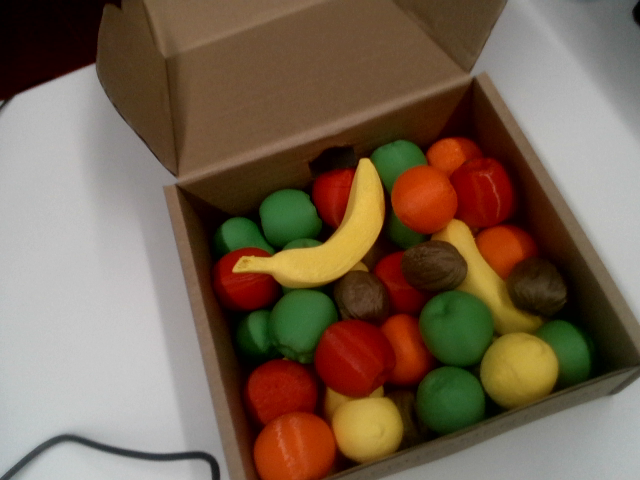banana: (230, 141, 413, 329), (421, 215, 545, 352)
green apple: (255, 275, 345, 370), (533, 311, 601, 390), (420, 290, 491, 365), (254, 182, 323, 250), (417, 366, 484, 432), (363, 128, 430, 193), (228, 307, 281, 368), (376, 209, 429, 258), (211, 215, 273, 256)
lemon: (470, 322, 566, 412), (330, 395, 404, 465), (312, 378, 355, 421), (369, 386, 382, 396)
orange: (377, 153, 468, 244), (253, 412, 336, 479), (471, 210, 542, 281), (378, 310, 439, 388), (420, 125, 483, 180)
red apple: (303, 308, 405, 409), (236, 349, 324, 428), (204, 241, 284, 320), (361, 246, 438, 327), (450, 159, 514, 226), (305, 161, 354, 229)
walnut: (495, 247, 576, 328), (400, 239, 467, 294), (331, 270, 392, 325)
